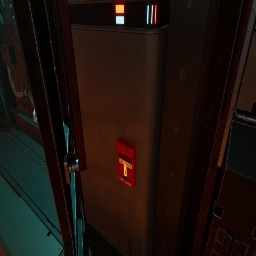FireAlarm ,: (116, 137, 136, 189)
